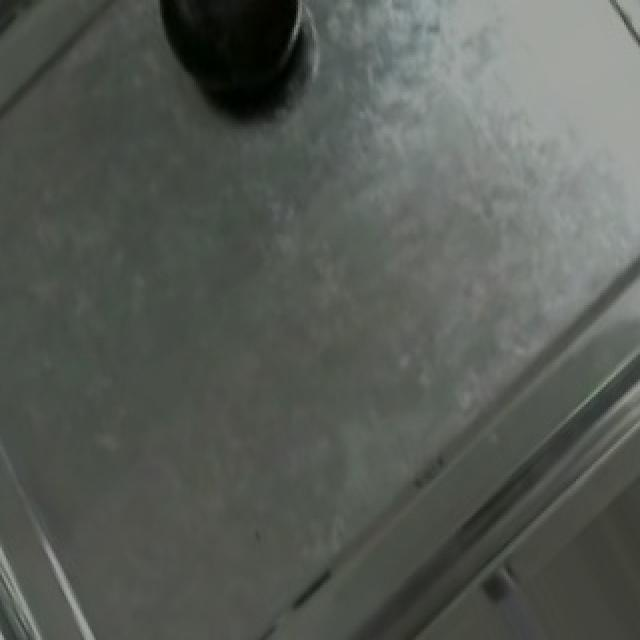Fruit: (142, 0, 322, 127)
